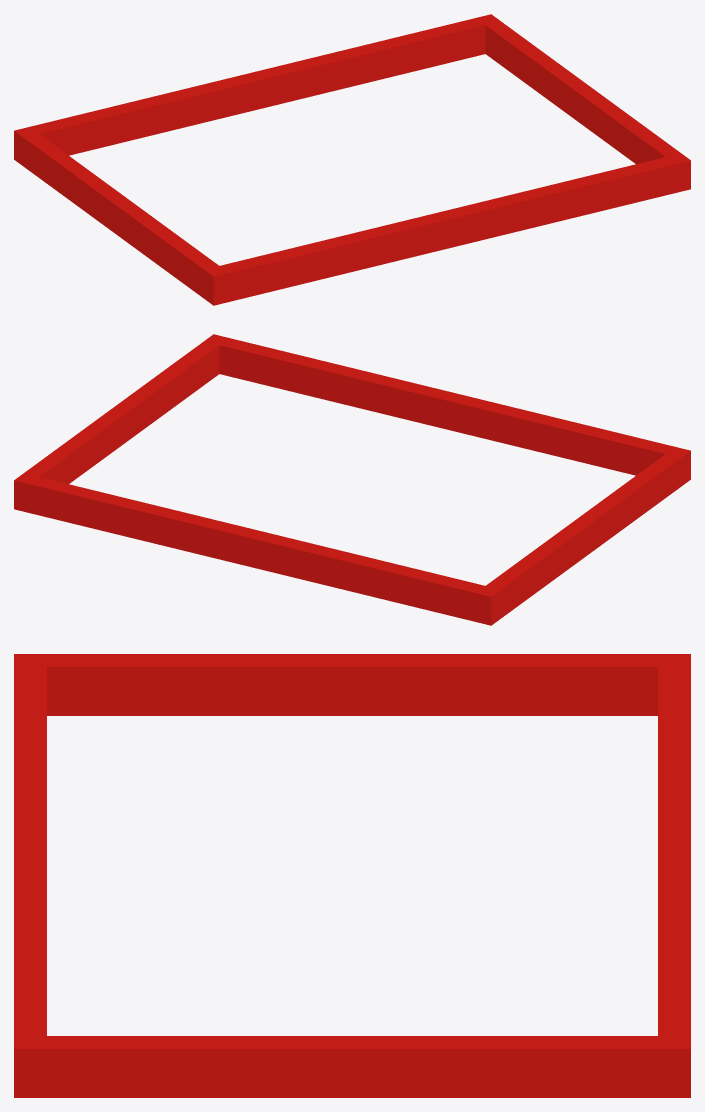
File: Hit Note (Red).glb
3 renders of one model, top to bottom at view 1: azimuth 30°, elevation 25°; view 2: azimuth 150°, elevation 25°; view 3: azimuth 270°, elevation 25°, orthographic. The views are drawn at different scales.
Visible parts, largest first — view 1: Cube.001; view 2: Cube.001; view 3: Cube.001.
Boxes of the visible parts, bbox=[...] form: Cube.001: bbox=[14, 14, 690, 305]; Cube.001: bbox=[14, 334, 690, 625]; Cube.001: bbox=[14, 654, 690, 1097].
Size of the model in its own units: 1.72 by 0.1 by 1.25.
